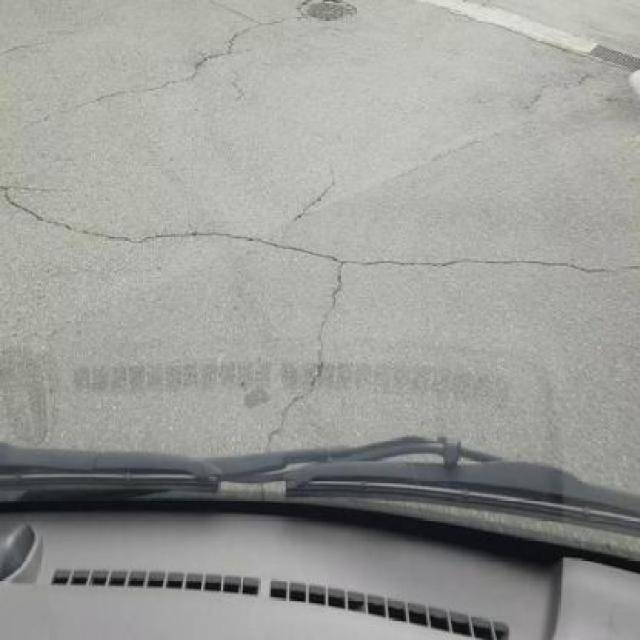Manhole: (589, 38, 640, 71), (296, 0, 356, 22)
